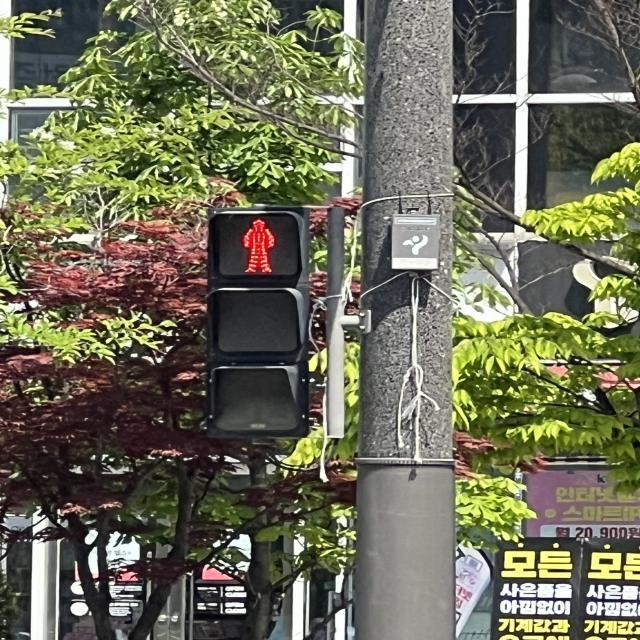red-crossing: (206, 214, 316, 460)
